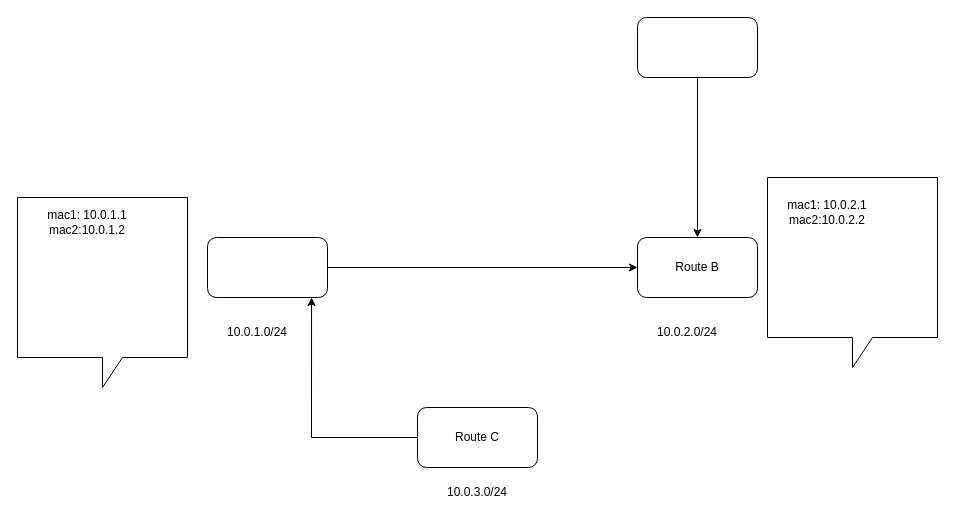
Image size: 955x525. Some labels were removed from this diagram. The centre of each missing label's shape, as x and y in pixels:
Route A: (x=267, y=267)
Route D: (x=697, y=47)
